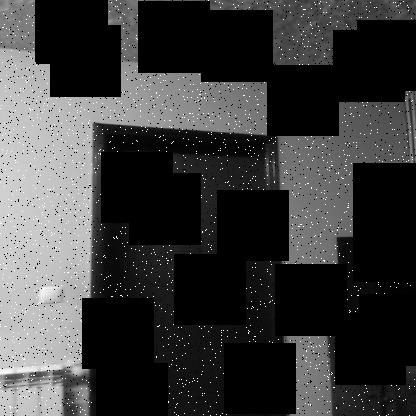Porte: (87, 122, 293, 416)
